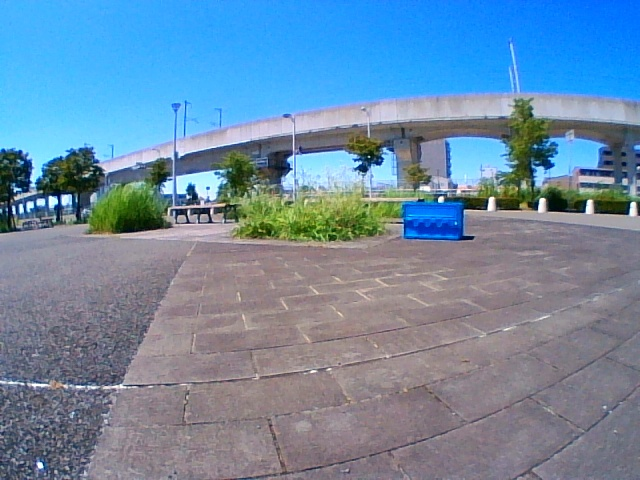blue_box: (405, 203, 462, 239)
